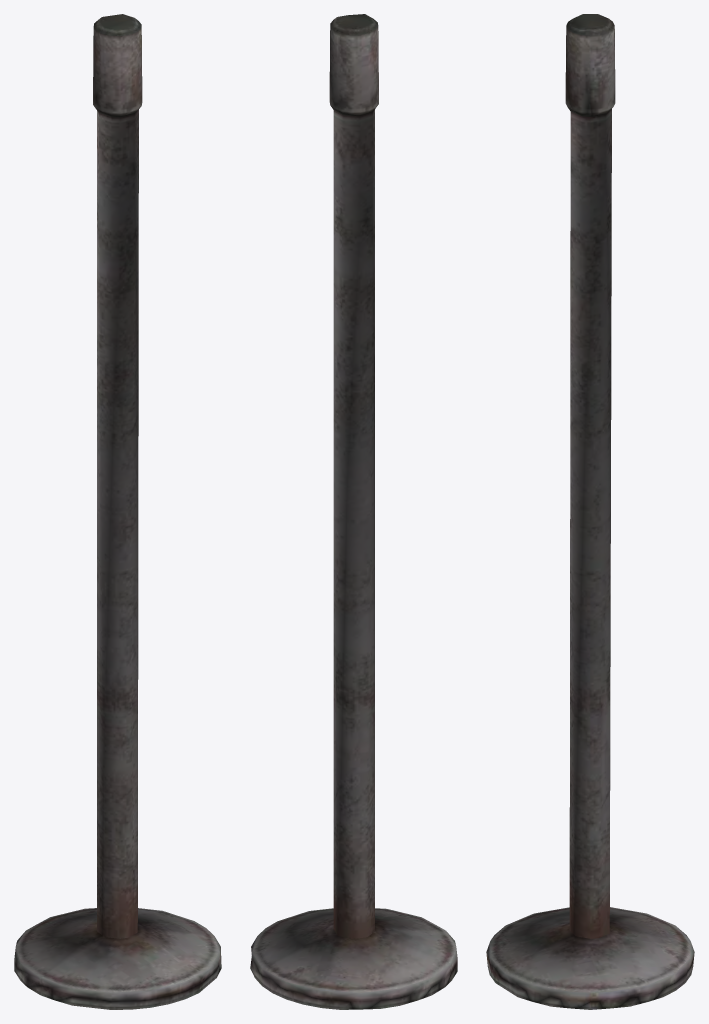
The model's file is queue_barrier_post_a.glb.
The picture shows the model from 3 angles, left to right: view 1: azimuth 30°, elevation 25°; view 2: azimuth 150°, elevation 25°; view 3: azimuth 270°, elevation 25°; orthographic projection.
Parts seen in each view (by area): view 1: queue_barrier_post_a; view 2: queue_barrier_post_a; view 3: queue_barrier_post_a.
Boxes of the visible parts, x1,y1,x2,y2 form: queue_barrier_post_a: (14, 14, 221, 1009); queue_barrier_post_a: (250, 14, 457, 1009); queue_barrier_post_a: (486, 14, 694, 1009).
Size of the model in its own units: 0.2482 by 1.25 by 0.2496.
1 material, 1 textured.
